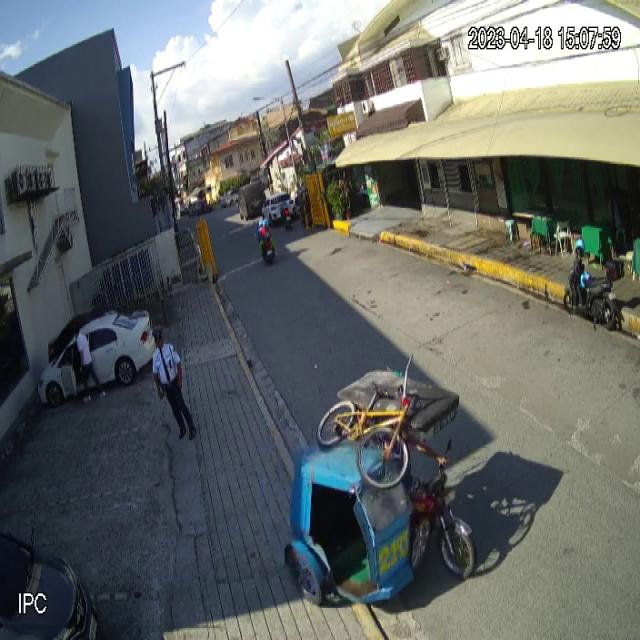Car: (38, 314, 156, 406)
Motorcycle: (564, 251, 625, 332)
Tricycle: (285, 367, 478, 607)
